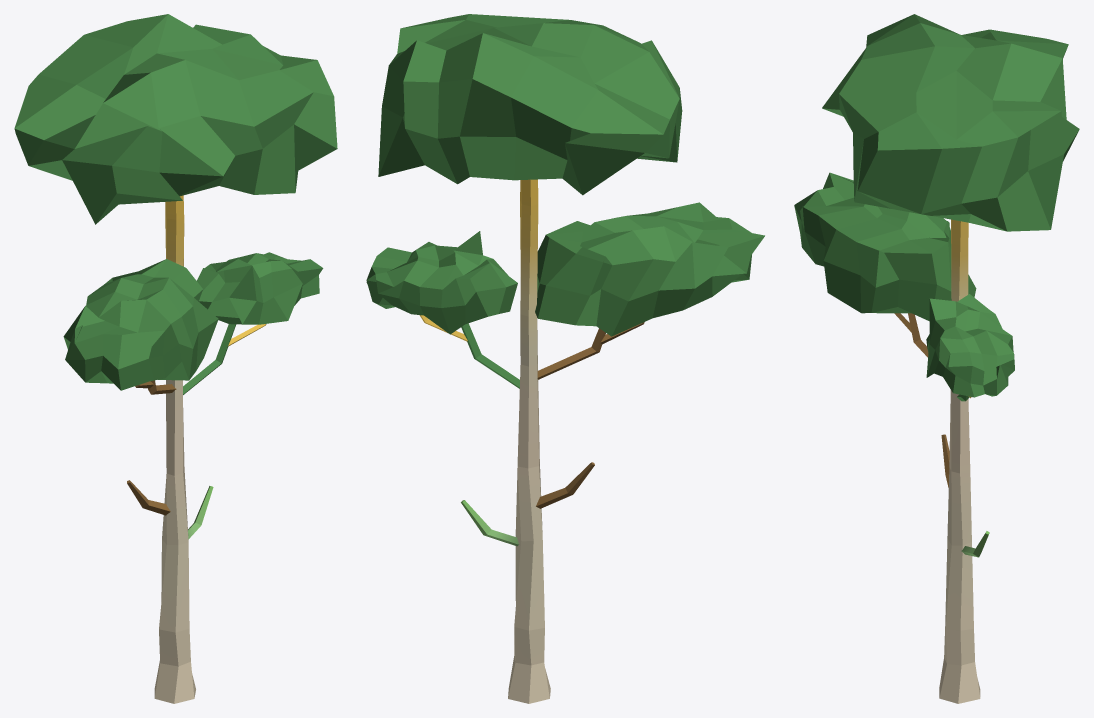
File: tree_b.gltf
The picture shows the model from 3 angles, left to right: view 1: azimuth 30°, elevation 25°; view 2: azimuth 150°, elevation 25°; view 3: azimuth 270°, elevation 25°; orthographic projection. The views are drawn at different scales.
Visible parts, largest first — view 1: tree_b001; view 2: tree_b001; view 3: tree_b001.
Part boxes in pixels (x1,y1,x2,y2): tree_b001: [14, 14, 337, 703]; tree_b001: [366, 14, 764, 703]; tree_b001: [794, 14, 1079, 703].
Bounding box in the file's own units: 3.49 × 6.92 × 2.72.
1 material, 1 textured.
